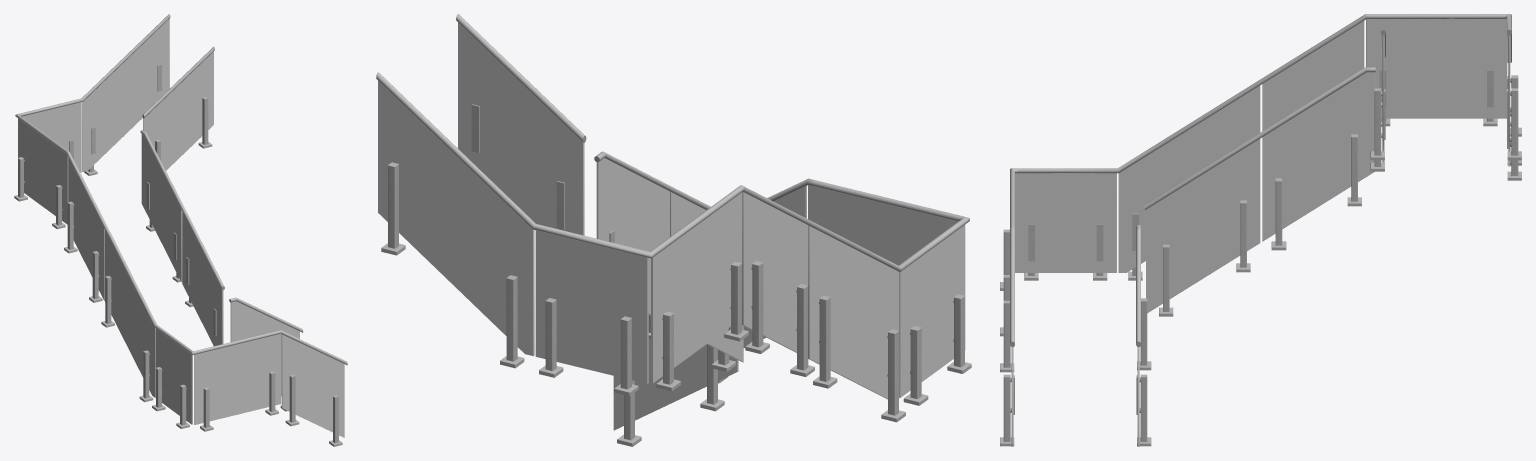
File: U-Shaped_Railing_Lo-Post_Square.gltf
3 renders of one model, left to right at view 1: azimuth 30°, elevation 25°; view 2: azimuth 150°, elevation 25°; view 3: azimuth 270°, elevation 25°, orthographic. The views are drawn at different scales.
Visible parts, largest first — view 1: Casework 1 Casework 1 [8738332], Infill_Glass_Raked & Horizontal Generic [8738822]001, Infill_Glass_Raked & Horizontal Generic [8739593]001, Infill_Glass_Raked & Horizontal Generic [8199751], Casework 1 Casework 1 [8738332]001, Infill_Glass_Raked & Horizontal Generic [8738822], Infill_Glass_Transition Generic [8202170], Infill_Glass_Raked & Horizontal Generic [8199751]001, Infill_Glass_Raked & Horizontal Generic [8739593], Infill_Glass_Raked & Horizontal Generic [8737682]001, Infill_Glass_Raked & Horizontal Generic [8737682], Infill_Glass_Transition Generic [8202170]001 (+5 smaller); view 2: Casework 1 Casework 1 [8738332], Infill_Glass_Raked & Horizontal Generic [8199751], Infill_Glass_Raked & Horizontal Generic [8737682], LS208 & LS209 - Circum Square Post Material LS Material [922 (×13), Casework 1 Casework 1 [8738332]001, Infill_Glass_Raked & Horizontal Generic [8738822], Infill_Glass_Raked & Horizontal Generic [8739593], Infill_Glass_Raked & Horizontal Generic [8737682]001, Infill_Glass_Raked & Horizontal Generic [8738822]001, Infill_Glass_Transition Generic [8202170], Object, Infill_Glass_Transition Generic [8202170]001 (+6 smaller); view 3: Infill_Glass_Raked & Horizontal Generic [8738822], Infill_Glass_Raked & Horizontal Generic [8199751]001, Infill_Glass_Transition Generic [8202170], Infill_Glass_Raked & Horizontal Generic [8737682]001, Casework 1 Casework 1 [8738332]001, Infill_Glass_Raked & Horizontal Generic [8739593], LS208 & LS209 - Circum Square Post Material LS Material [922 (×5), Generic Models 1 Generic Models 1 [8568048], Generic Models 10 Generic Models 1 [8735975], Object, Object013, Generic Models 1 Generic Models 1 [8568048]001 (+2 smaller).
Part boxes in pixels (<box>): Casework 1 Casework 1 [8738332]: <box>82,19,169,171</box>; Infill_Glass_Raked & Horizontal Generic [8738822]001: <box>194,333,280,424</box>; Infill_Glass_Raked & Horizontal Generic [8739593]001: <box>281,334,344,437</box>; Infill_Glass_Raked & Horizontal Generic [8199751]: <box>143,51,213,170</box>; Casework 1 Casework 1 [8738332]001: <box>105,230,155,397</box>; Infill_Glass_Raked & Horizontal Generic [8738822]: <box>18,118,68,224</box>; Infill_Glass_Transition Generic [8202170]: <box>141,134,182,282</box>; Infill_Glass_Raked & Horizontal Generic [8199751]001: <box>182,212,223,346</box>; Infill_Glass_Raked & Horizontal Generic [8739593]: <box>68,157,104,300</box>; Infill_Glass_Raked & Horizontal Generic [8737682]001: <box>155,328,192,424</box>; Infill_Glass_Raked & Horizontal Generic [8737682]: <box>22,102,81,172</box>; Infill_Glass_Transition Generic [8202170]001: <box>230,301,299,396</box>; Casework 1 Casework 1 [8738332]: <box>378,81,534,356</box>; Infill_Glass_Raked & Horizontal Generic [8199751]: <box>458,22,584,235</box>; Infill_Glass_Raked & Horizontal Generic [8737682]: <box>535,230,648,383</box>; LS208 & LS209 - Circum Square Post Material LS Material [922 (×13): <box>388,165,964,415</box>; Casework 1 Casework 1 [8738332]001: <box>808,225,899,399</box>; Infill_Glass_Raked & Horizontal Generic [8738822]: <box>651,192,742,383</box>; Infill_Glass_Raked & Horizontal Generic [8739593]: <box>742,192,808,352</box>; Infill_Glass_Raked & Horizontal Generic [8737682]001: <box>899,225,965,397</box>; Infill_Glass_Raked & Horizontal Generic [8738822]001: <box>808,185,957,265</box>; Infill_Glass_Transition Generic [8202170]: <box>596,158,669,315</box>; Object: <box>376,72,740,258</box>; Infill_Glass_Transition Generic [8202170]001: <box>613,339,738,430</box>; Infill_Glass_Raked & Horizontal Generic [8738822]: <box>1366,19,1507,118</box>; Infill_Glass_Raked & Horizontal Generic [8199751]001: <box>1146,139,1260,312</box>; Infill_Glass_Transition Generic [8202170]: <box>1262,72,1374,241</box>; Infill_Glass_Raked & Horizontal Generic [8737682]001: <box>1015,173,1116,272</box>; Casework 1 Casework 1 [8738332]001: <box>1118,85,1260,272</box>; Infill_Glass_Raked & Horizontal Generic [8739593]: <box>1262,21,1364,131</box>; LS208 & LS209 - Circum Square Post Material LS Material [922 (×5): <box>1003,91,1518,441</box>; Generic Models 1 Generic Models 1 [8568048]: <box>1145,67,1375,209</box>; Generic Models 10 Generic Models 1 [8735975]: <box>1166,14,1370,142</box>; Object: <box>1371,14,1511,62</box>; Object013: <box>1053,138,1167,173</box>; Generic Models 1 Generic Models 1 [8568048]001: <box>1136,225,1141,347</box>.
Size of the model in its own units: 1.98 by 3.49 by 3.92.
